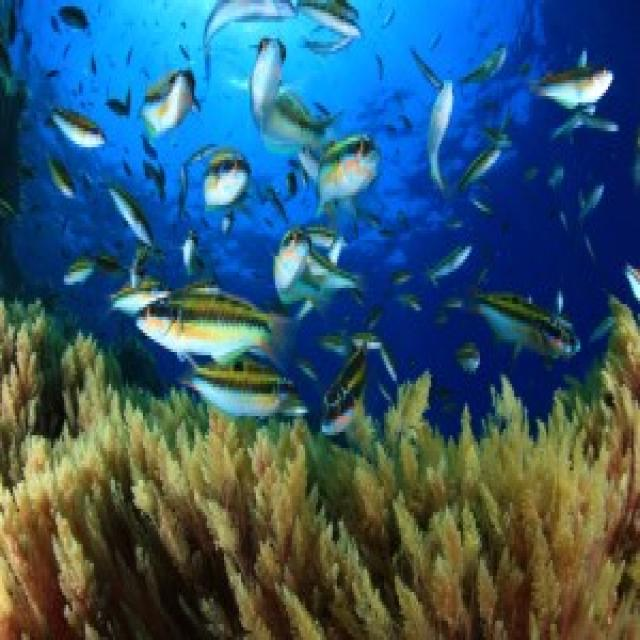Coral: (0, 294, 640, 640)
